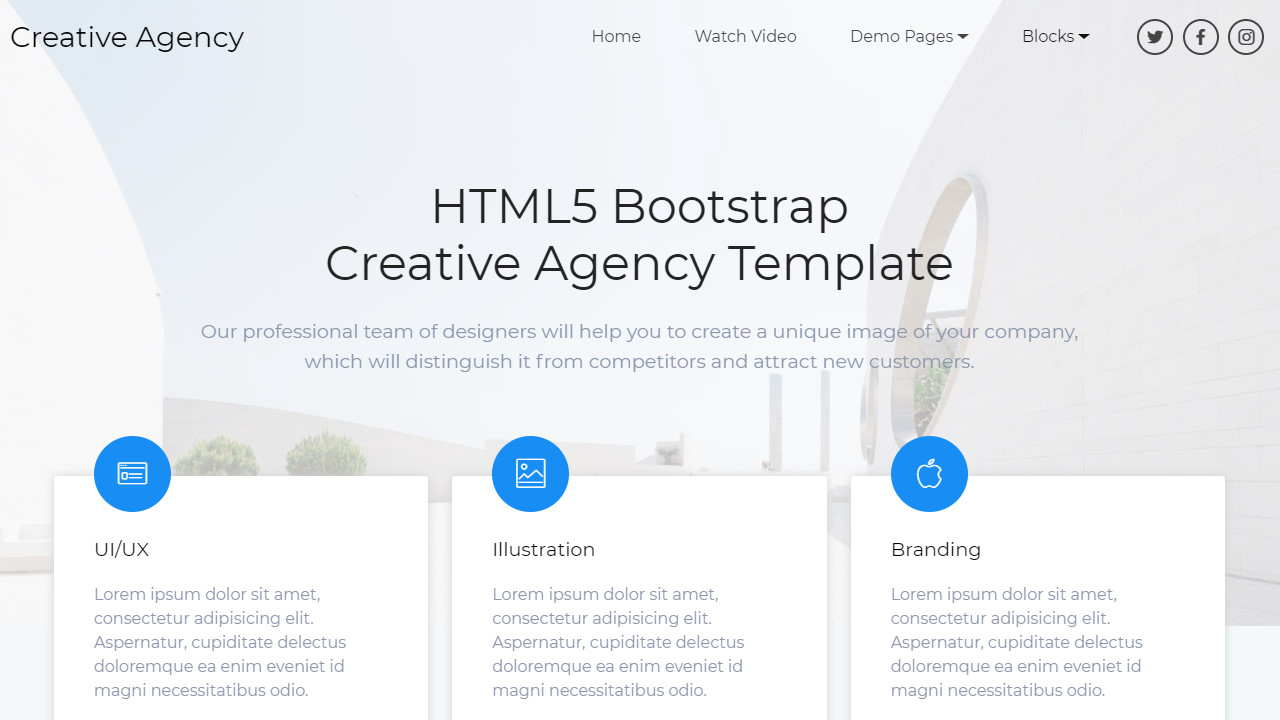button: (1178, 16, 1227, 58), (1227, 9, 1268, 59), (1130, 15, 1177, 56)
dropdown: (840, 15, 975, 53), (998, 22, 1098, 55)
